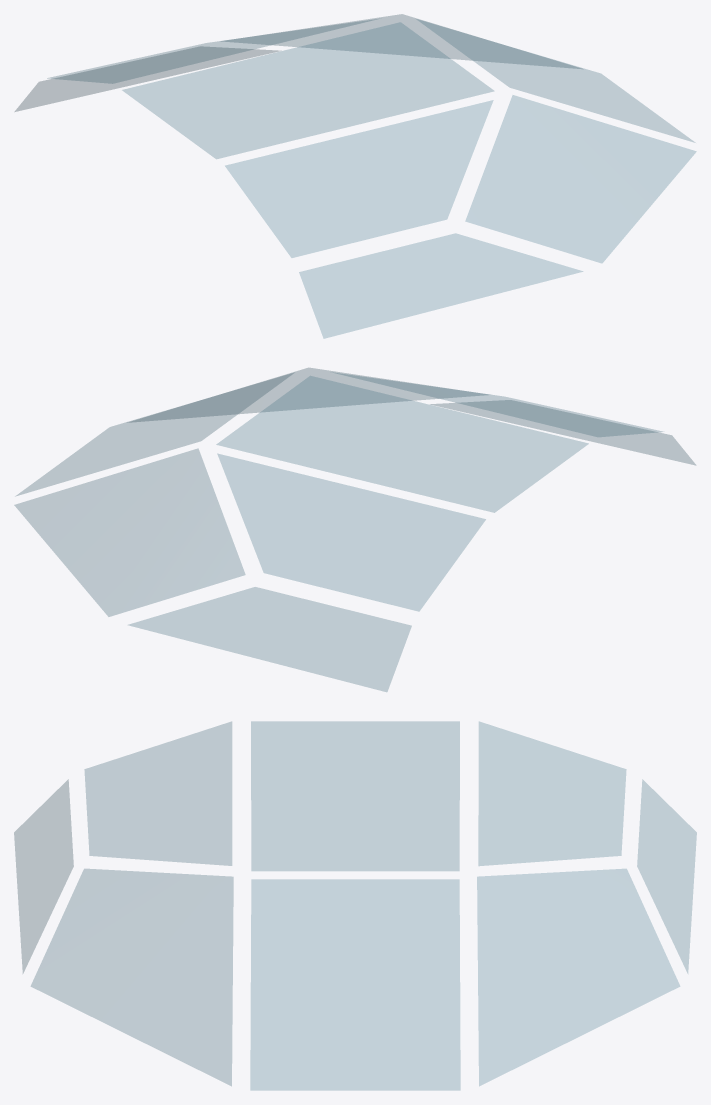
File: Bridge_Glass_Mesh.fbx
The picture shows the model from 3 angles, top to bottom: view 1: azimuth 30°, elevation 25°; view 2: azimuth 150°, elevation 25°; view 3: azimuth 270°, elevation 25°; orthographic projection. The views are drawn at different scales.
Visible parts, largest first — view 1: Bridge_Glass_Mesh; view 2: Bridge_Glass_Mesh; view 3: Bridge_Glass_Mesh.
Part boxes in pixels (x1,y1,x2,y2): Bridge_Glass_Mesh: (15,14,696,338); Bridge_Glass_Mesh: (14,368,695,691); Bridge_Glass_Mesh: (14,721,696,1090).
Size of the model in its own units: 4854 by 974 by 5421.
